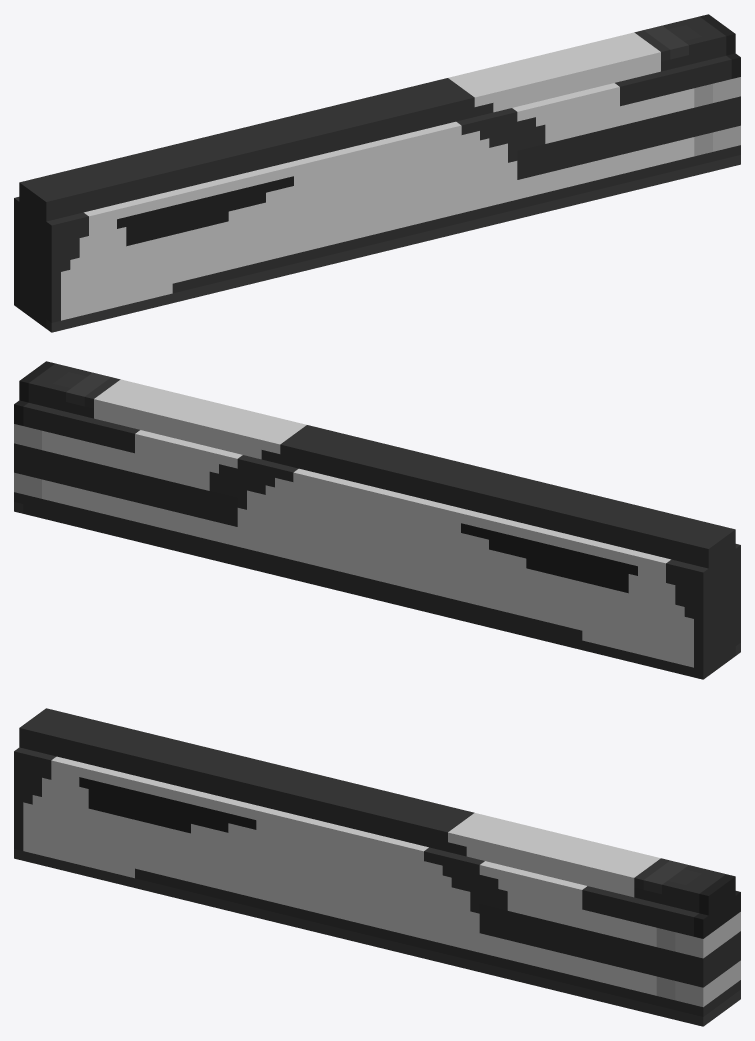
The model's file is Punisher-7.obj.
The picture shows the model from 3 angles, top to bottom: view 1: azimuth 30°, elevation 25°; view 2: azimuth 150°, elevation 25°; view 3: azimuth 330°, elevation 25°; orthographic projection.
Size of the model in its own units: 7.4 by 1.3 by 0.7.
1 material, 1 textured.
